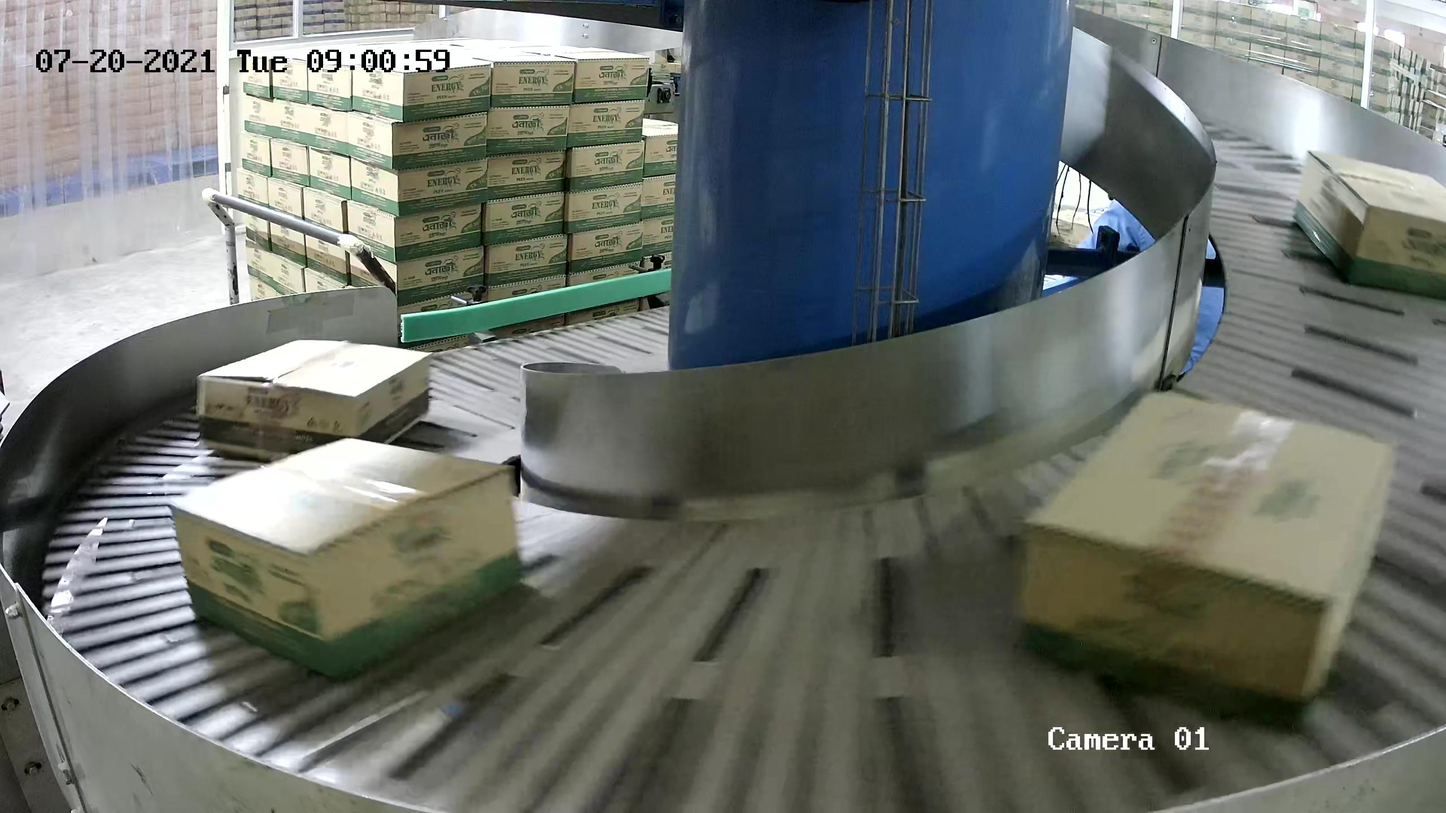Box: (1015, 389, 1400, 733), (168, 435, 529, 684), (193, 338, 434, 471), (1291, 148, 1446, 302)
